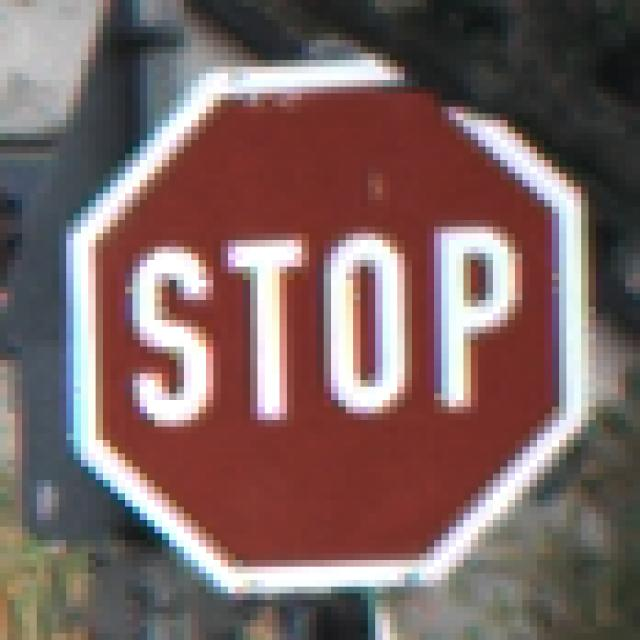STOP: (60, 54, 582, 588)
